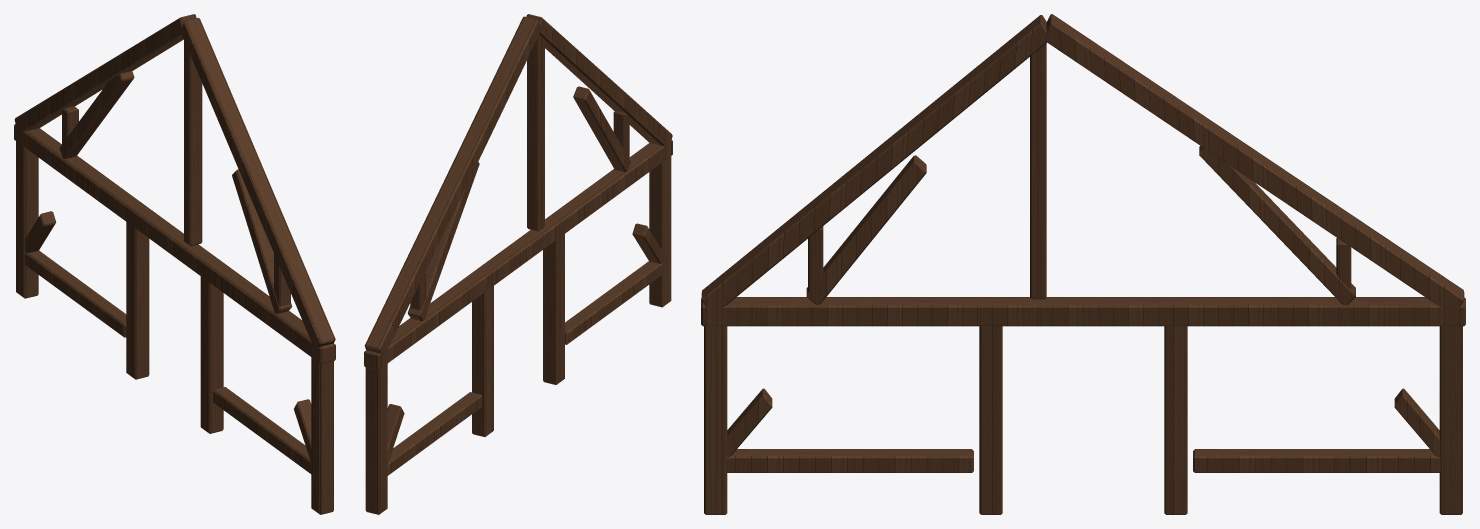
File: SM_HH_V2_Timber_Rear.fbx
3 renders of one model, left to right at view 1: azimuth 30°, elevation 25°; view 2: azimuth 150°, elevation 25°; view 3: azimuth 270°, elevation 25°, orthographic. The views are drawn at different scales.
Parts seen in each view (by area): view 1: HH_V2_Timber_Rear; view 2: HH_V2_Timber_Rear; view 3: HH_V2_Timber_Rear.
Part boxes in pixels (box(x1,y1,x2,y2)): HH_V2_Timber_Rear: box(14, 14, 335, 514); HH_V2_Timber_Rear: box(364, 14, 672, 514); HH_V2_Timber_Rear: box(701, 14, 1465, 514).
Bounding box in the file's own units: 8.86 × 0.27 × 6.3.
